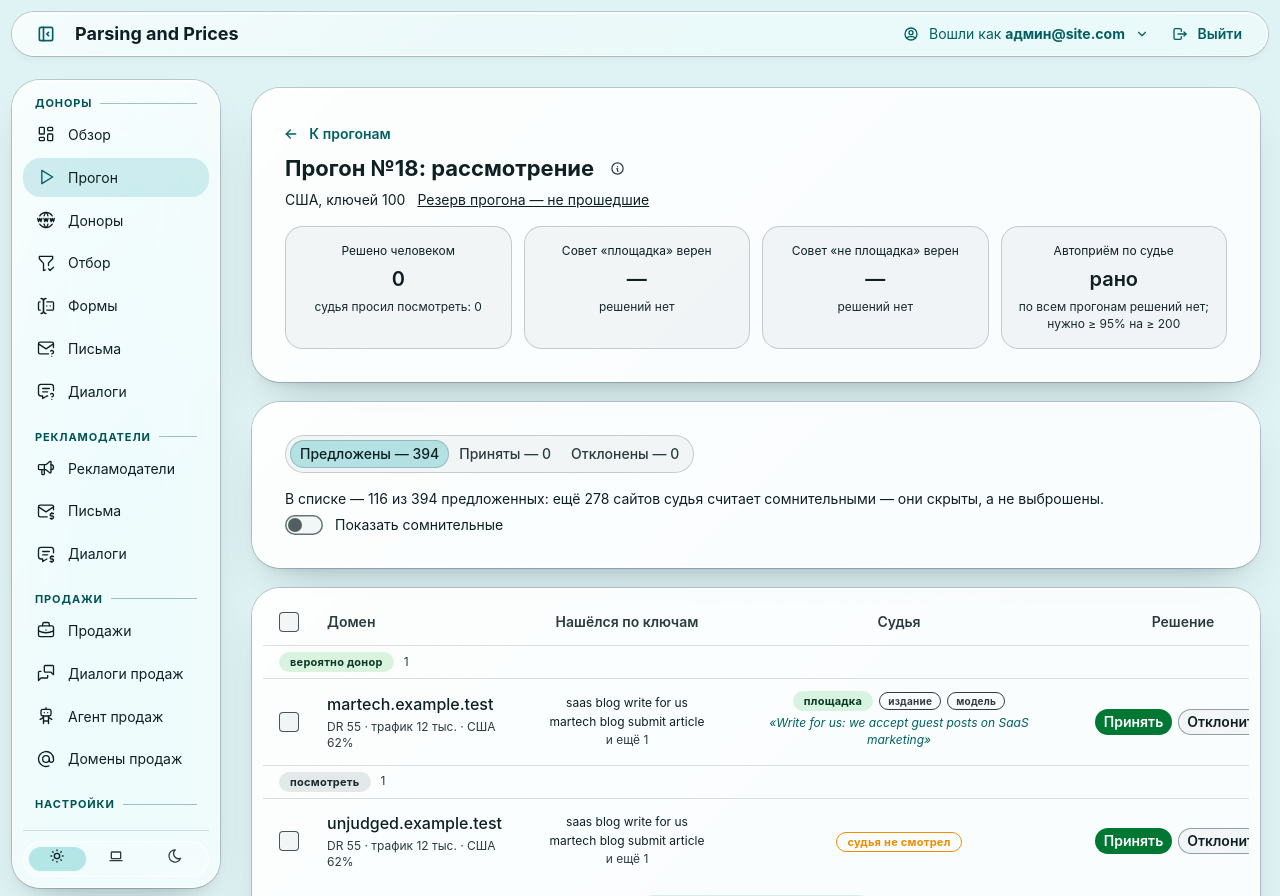
Scenario: шапка очереди › у того, кто решает, первым — флажок «все на экране», ярус — на все колонки
Check: the 1st radio button labelled "Предложены — 394" is shown, box left=290, top=440, right=449, bottom=468
What coordinates should you click on to do the following:
click the checkbox named "Выбрать все на экране"
I would click on:
 (289, 622)
Its box is left=279, top=612, right=299, bottom=632.
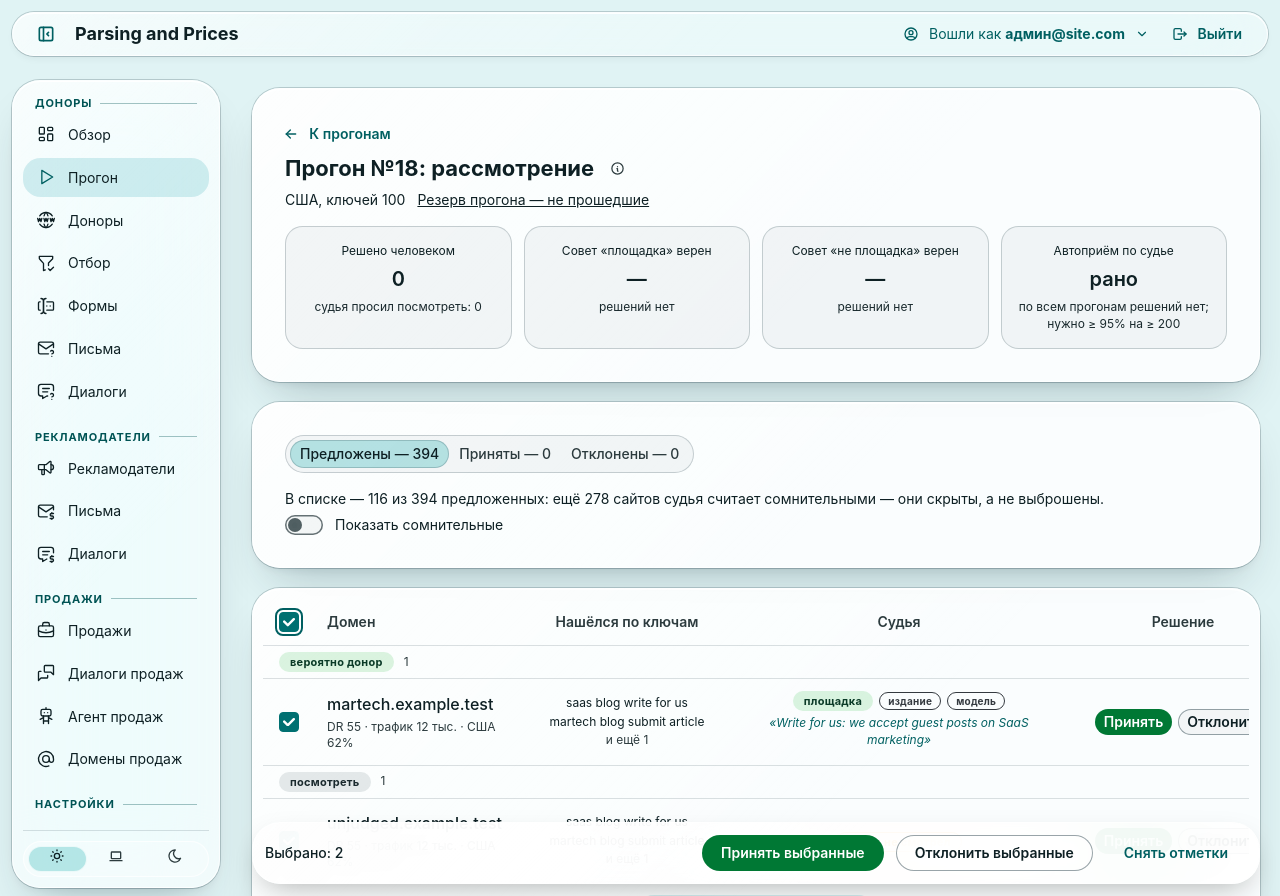
Check: the text "Выбрано: 2" is shown, box left=265, top=843, right=343, bottom=863
